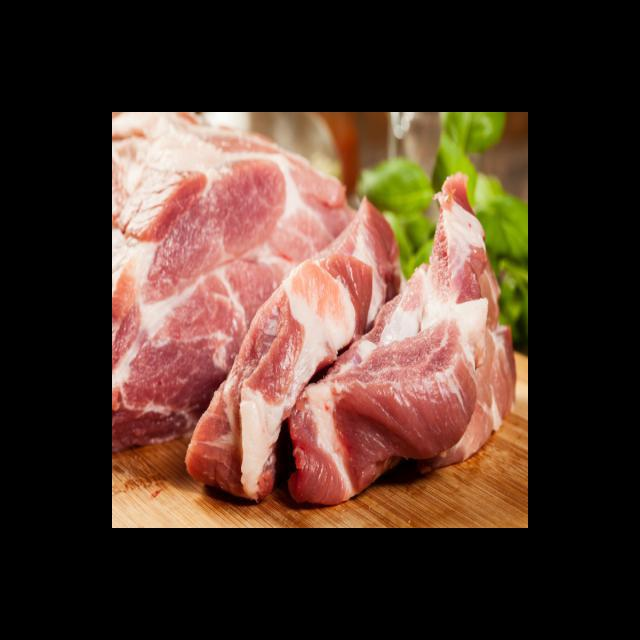pork: (112, 112, 520, 515)
